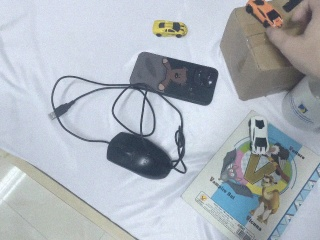book: (175, 111, 320, 240)
box: (219, 4, 309, 101)
cup: (281, 76, 320, 135)
mouse: (105, 130, 174, 180)
phone: (128, 47, 219, 105)
toy_car: (246, 1, 312, 35), (152, 19, 188, 39)
